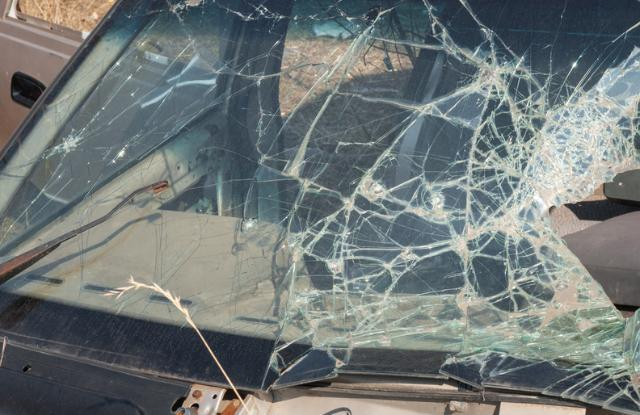Windshield: (12, 3, 632, 396)
